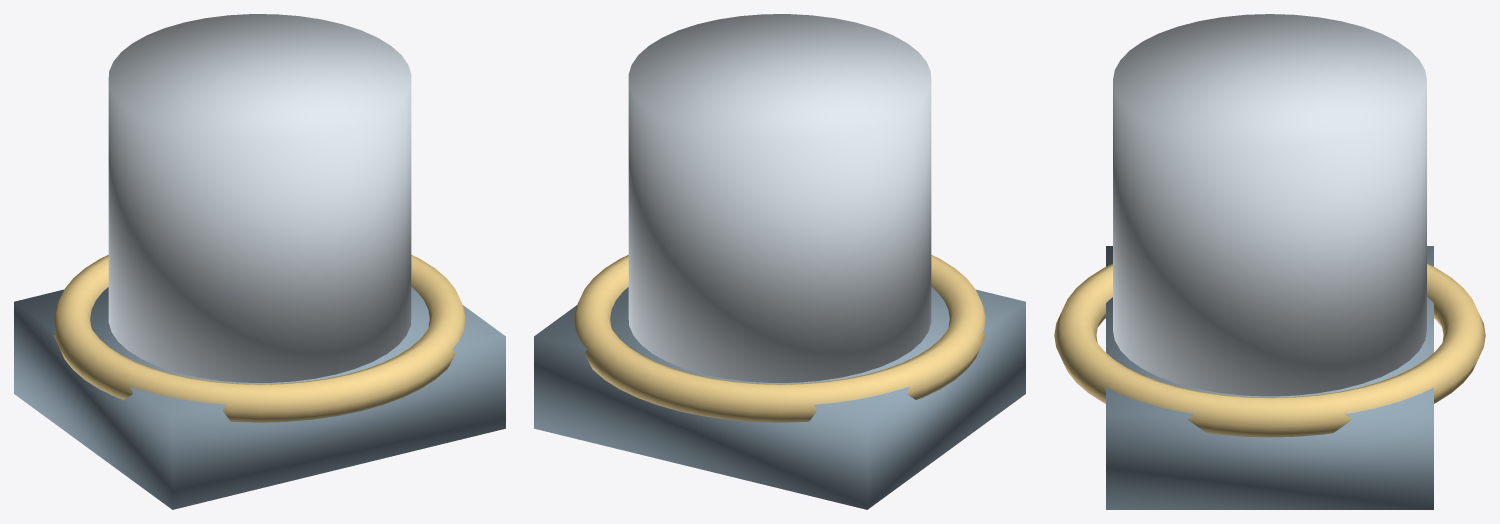
Rendered from 54_L92_GroundPenetratingRadarA.glb.
3 views of the same model, side by side, from view 1: azimuth 30°, elevation 25°; view 2: azimuth 150°, elevation 25°; view 3: azimuth 270°, elevation 25° (orthographic). The views are drawn at different scales.
Parts seen in each view (by area): view 1: L92_GroundPenetratingRadarA_Part_0001, L92_GroundPenetratingRadarA, L92_GroundPenetratingRadarA_Part_0002; view 2: L92_GroundPenetratingRadarA_Part_0001, L92_GroundPenetratingRadarA, L92_GroundPenetratingRadarA_Part_0002; view 3: L92_GroundPenetratingRadarA_Part_0001, L92_GroundPenetratingRadarA, L92_GroundPenetratingRadarA_Part_0002.
Part boxes in pixels (x1,y1,x2,y2): L92_GroundPenetratingRadarA_Part_0001: (108,14,411,382); L92_GroundPenetratingRadarA: (14,287,505,509); L92_GroundPenetratingRadarA_Part_0002: (53,255,465,422); L92_GroundPenetratingRadarA_Part_0001: (628,14,931,382); L92_GroundPenetratingRadarA: (534,287,1025,509); L92_GroundPenetratingRadarA_Part_0002: (574,255,986,422); L92_GroundPenetratingRadarA_Part_0001: (1113,14,1426,396); L92_GroundPenetratingRadarA: (1106,246,1433,509); L92_GroundPenetratingRadarA_Part_0002: (1054,263,1485,437).
Size of the model in its own units: 1.84 by 1.63 by 1.84.
